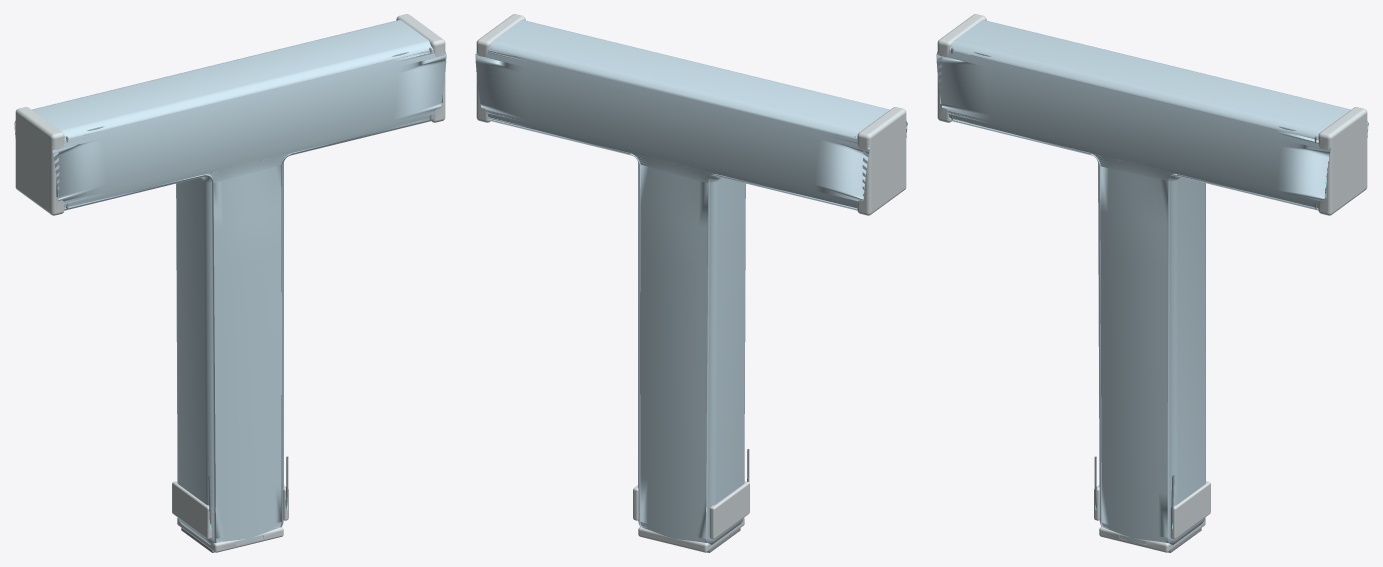
The model's file is tem-identity.glb.
The picture shows the model from 3 angles, left to right: view 1: azimuth 30°, elevation 25°; view 2: azimuth 150°, elevation 25°; view 3: azimuth 330°, elevation 25°; orthographic projection.
Parts seen in each view (by area): view 1: TEM_GLASS_T, TEM_PEARL_CONNECTORS, TEM_TITANIUM_SEAMS; view 2: TEM_GLASS_T, TEM_PEARL_CONNECTORS; view 3: TEM_GLASS_T, TEM_PEARL_CONNECTORS, TEM_TITANIUM_SEAMS.
Part boxes in pixels (x1,y1,x2,y2): TEM_GLASS_T: (14,20,446,544); TEM_PEARL_CONNECTORS: (15,14,445,552); TEM_TITANIUM_SEAMS: (65,47,431,552); TEM_GLASS_T: (475,20,907,544); TEM_PEARL_CONNECTORS: (476,14,906,552); TEM_GLASS_T: (936,20,1368,544); TEM_PEARL_CONNECTORS: (937,14,1367,552); TEM_TITANIUM_SEAMS: (951,47,1317,552).
Bounding box in the file's own units: 5.02 × 5.6 × 0.888.
